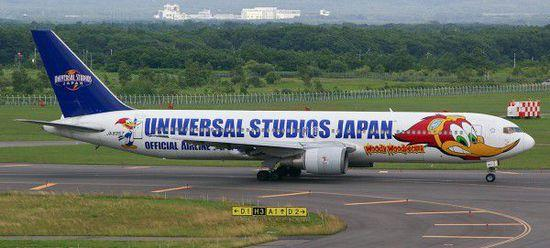airplane: (20, 25, 538, 183)
